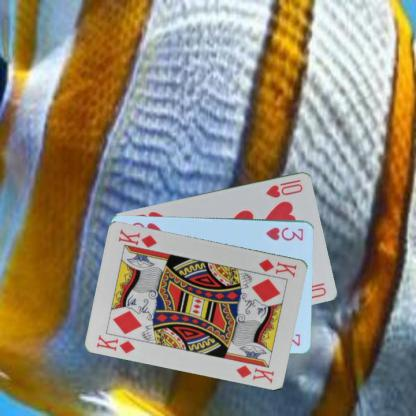10h: (263, 177, 304, 199)
3h: (264, 223, 304, 242)
Kd: (257, 256, 298, 278), (95, 332, 136, 354)
